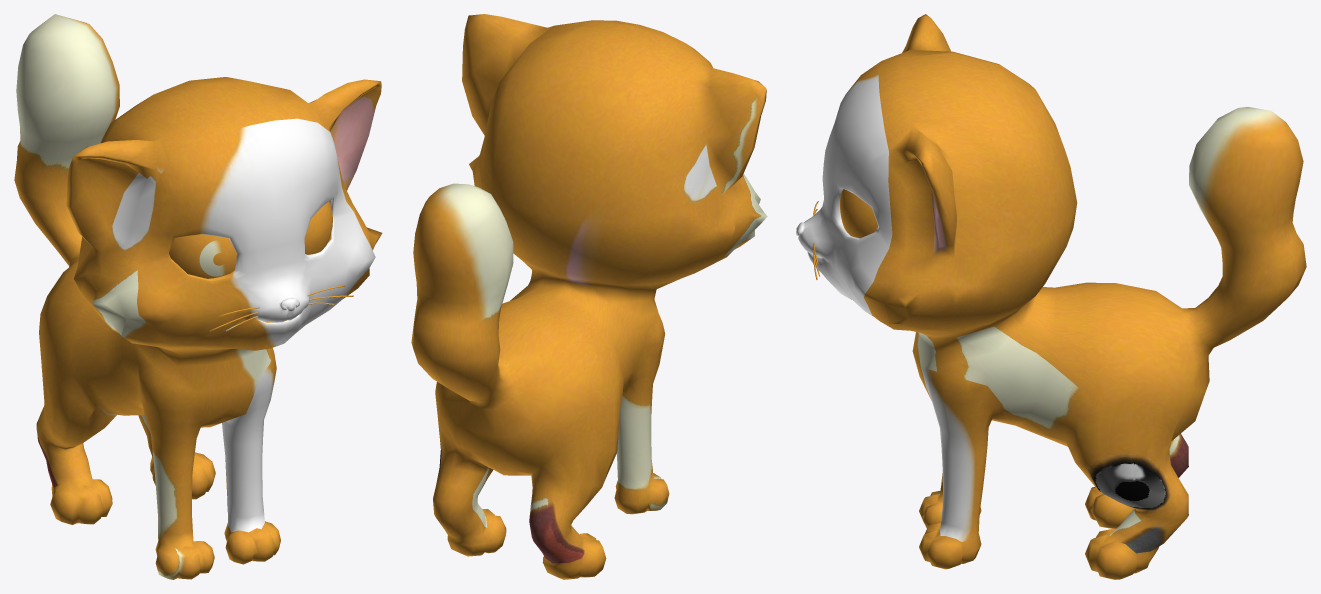
File: CuteKitty.glb
The picture shows the model from 3 angles, left to right: view 1: azimuth 30°, elevation 25°; view 2: azimuth 150°, elevation 25°; view 3: azimuth 270°, elevation 25°; orthographic projection. The views are drawn at different scales.
Parts seen in each view (by area): view 1: Cat (Form 1).019; view 2: Cat (Form 1).019; view 3: Cat (Form 1).019.
Boxes of the visible parts, box(x1,y1,x2,y2) form: Cat (Form 1).019: box(14, 14, 382, 579); Cat (Form 1).019: box(411, 14, 767, 579); Cat (Form 1).019: box(796, 14, 1306, 579).
Size of the model in its own units: 0.8953 by 1.34 by 1.28.
1 material, 1 textured.
